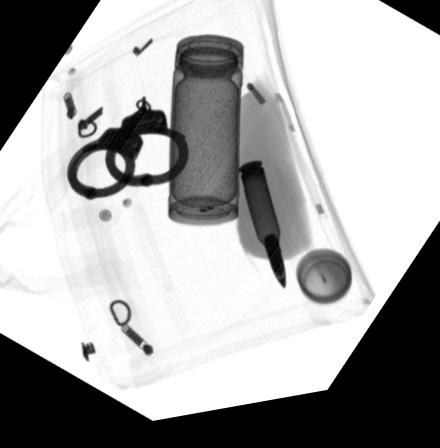Bullet: (236, 170, 286, 300)
HandCuffs: (63, 100, 190, 203)
